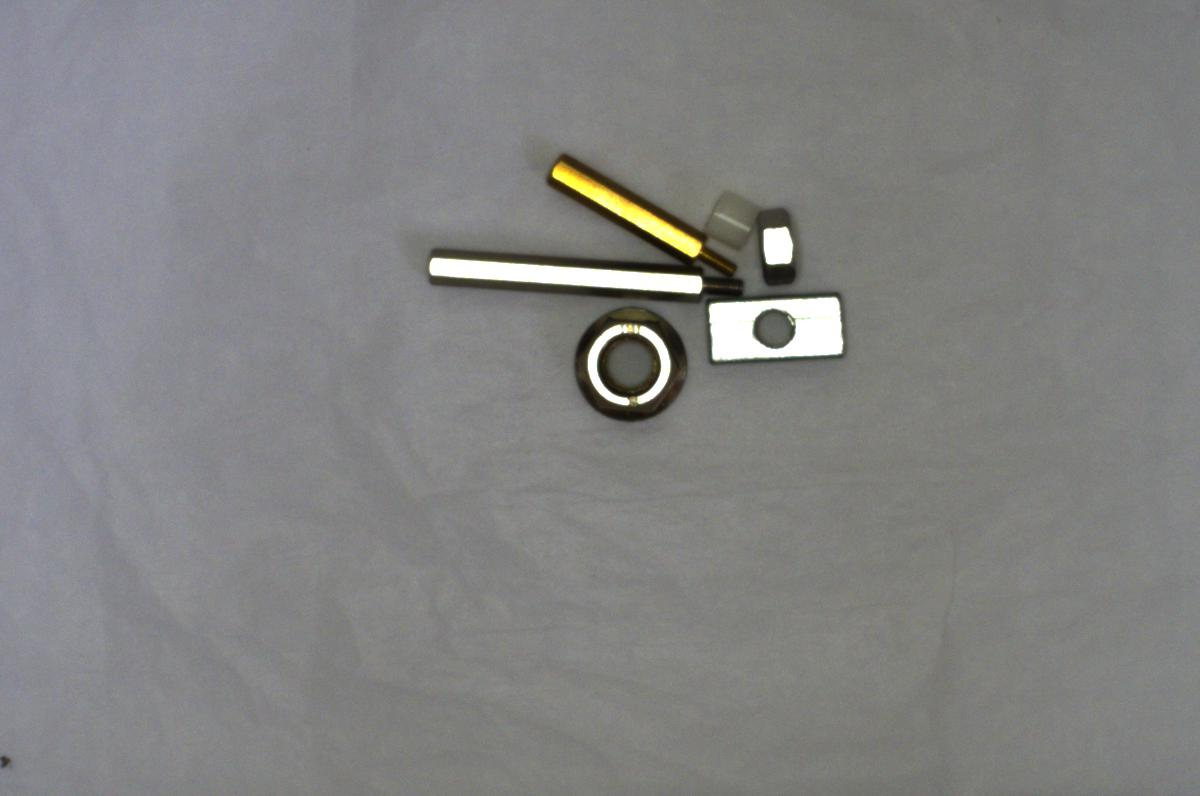Flange nut: (560, 299, 698, 430)
Hexagon nut: (757, 203, 806, 289)
Hexagon pillar: (531, 147, 741, 279)
Hexagonal steel column: (418, 246, 752, 305)
Plastic cushion pillar: (700, 180, 755, 247)
Rectangular nut: (700, 288, 855, 367)
